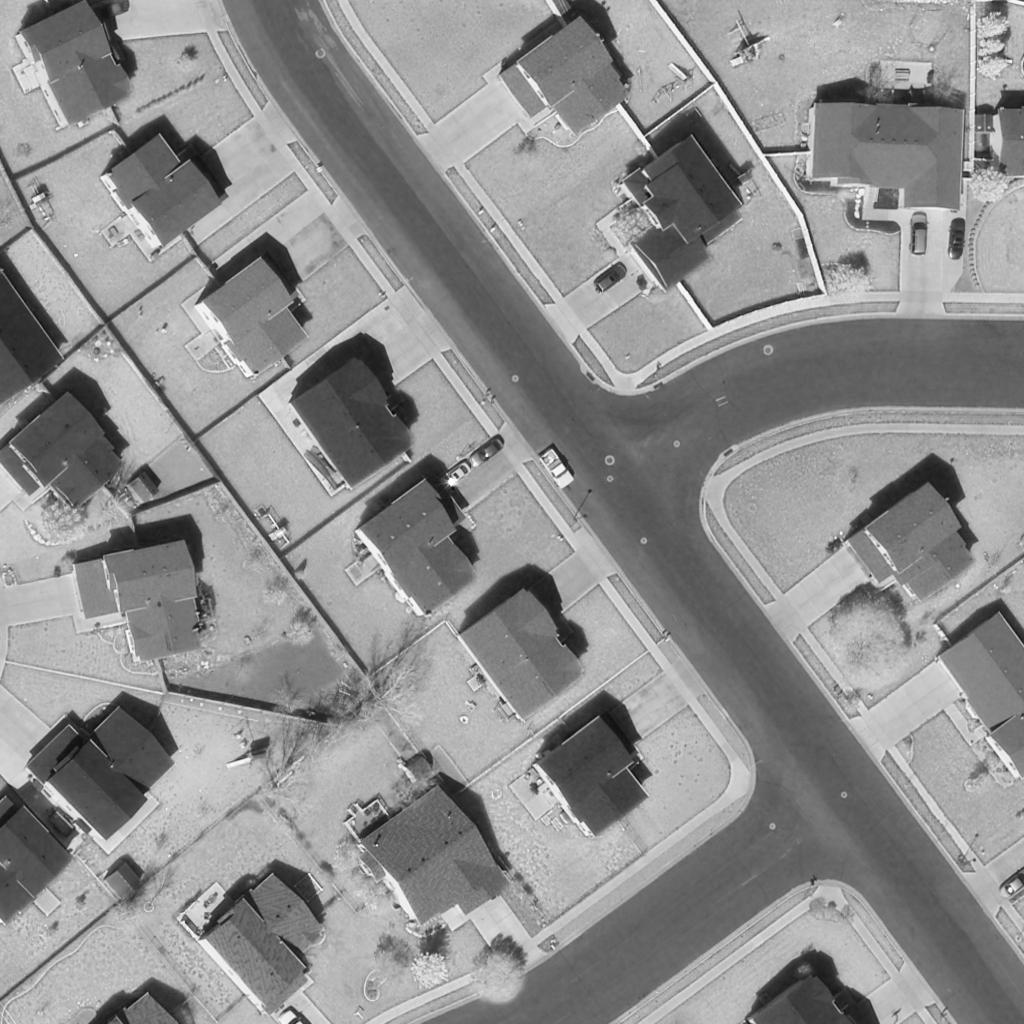vehicle: (536, 450, 574, 488), (433, 460, 475, 494), (592, 261, 630, 297), (472, 437, 506, 469), (997, 867, 1024, 899), (910, 211, 928, 255), (949, 218, 967, 260)
